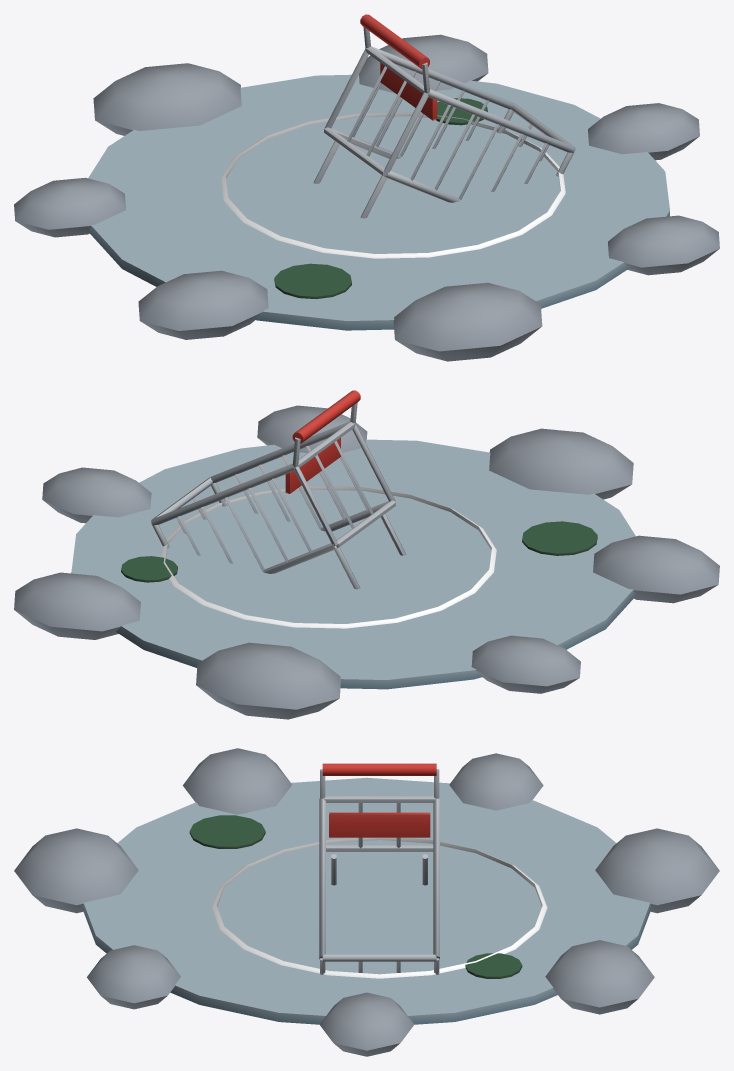
Rendered from ck_meme_pond_cart.fbx.
3 views of the same model, one above another, from view 1: azimuth 30°, elevation 25°; view 2: azimuth 150°, elevation 25°; view 3: azimuth 270°, elevation 25° (orthographic). The views are drawn at different scales.
Visible parts, largest first — view 1: ck_meme_pond_cart; view 2: ck_meme_pond_cart; view 3: ck_meme_pond_cart.
Part boxes in pixels (box(x1,y1,x2,y2)): ck_meme_pond_cart: box(14, 14, 719, 361); ck_meme_pond_cart: box(14, 390, 719, 719); ck_meme_pond_cart: box(14, 748, 719, 1056).
Size of the model in its own units: 971 by 263 by 980.
